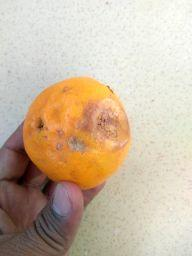Ripe: (23, 77, 132, 188)
